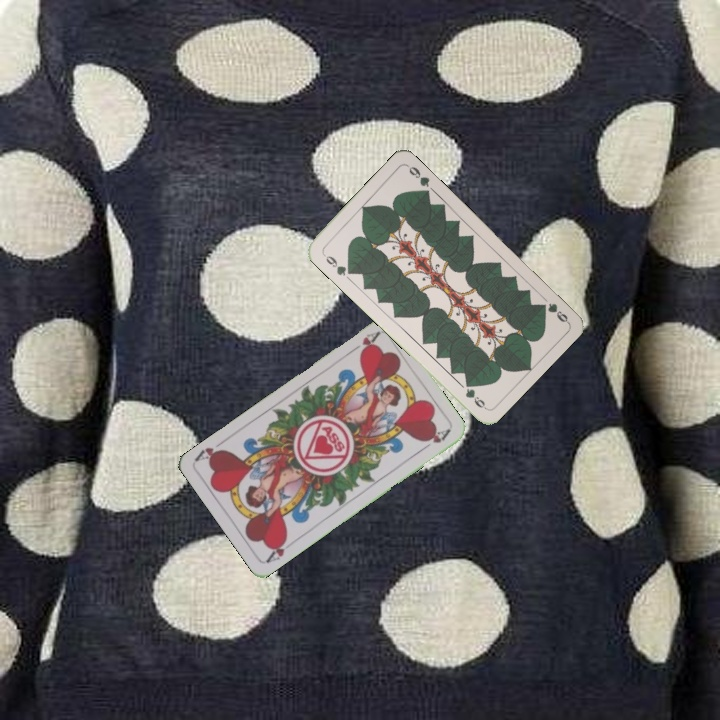G9: (319, 249, 355, 278), (537, 299, 571, 325)
HA: (346, 328, 382, 357), (263, 533, 291, 565)
